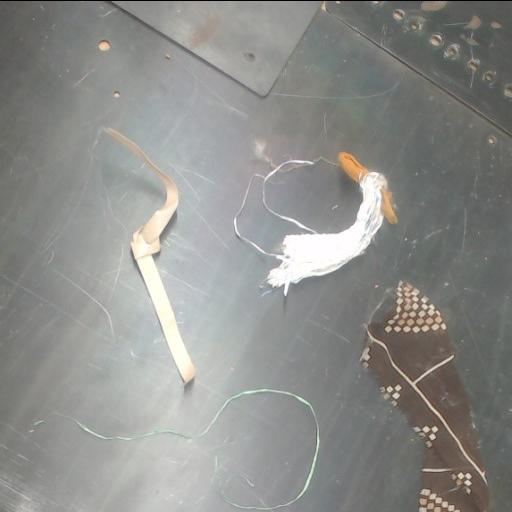cloth: (361, 281, 487, 512), (267, 171, 386, 295)
conveyor belt: (0, 1, 511, 512)
thread: (74, 388, 320, 510), (106, 128, 195, 394), (225, 144, 321, 264)
